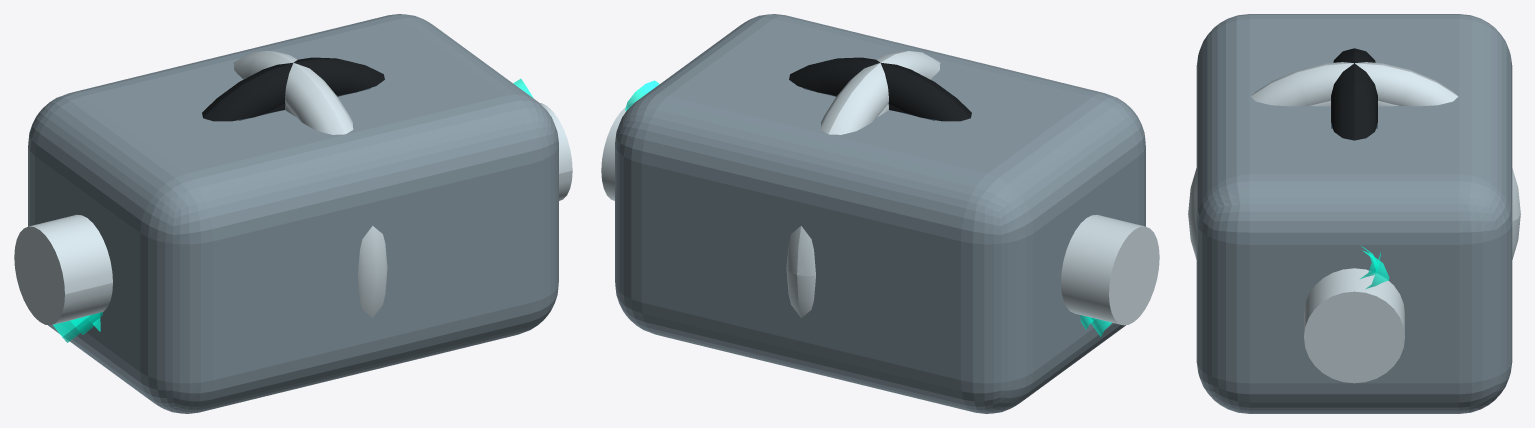
File: g4ed_lubrication.glb
3 views of the same model, side by side, from view 1: azimuth 30°, elevation 25°; view 2: azimuth 150°, elevation 25°; view 3: azimuth 270°, elevation 25° (orthographic).
Visible parts, largest first — view 1: asset_mesh__g4ed_132__reference_body, asset_mesh__g4ed_139__reference_axis, asset_mesh__g4ed_130__reference_rim, asset_mesh__g4ed_137__reference_seal, asset_mesh__g4ed_151__reference_flow_path; view 2: asset_mesh__g4ed_132__reference_body, asset_mesh__g4ed_139__reference_axis, asset_mesh__g4ed_130__reference_rim, asset_mesh__g4ed_137__reference_seal, asset_mesh__g4ed_151__reference_flow_path; view 3: asset_mesh__g4ed_132__reference_body, asset_mesh__g4ed_139__reference_axis, asset_mesh__g4ed_130__reference_rim, asset_mesh__g4ed_137__reference_seal, asset_mesh__g4ed_151__reference_flow_path.
Part boxes in pixels (box(x1,y1,x2,y2)): asset_mesh__g4ed_132__reference_body: box(28, 14, 558, 413); asset_mesh__g4ed_139__reference_axis: box(14, 103, 572, 325); asset_mesh__g4ed_130__reference_rim: box(233, 51, 387, 317); asset_mesh__g4ed_137__reference_seal: box(202, 57, 384, 121); asset_mesh__g4ed_151__reference_flow_path: box(53, 78, 533, 342); asset_mesh__g4ed_132__reference_body: box(615, 14, 1145, 413); asset_mesh__g4ed_139__reference_axis: box(601, 103, 1159, 325); asset_mesh__g4ed_130__reference_rim: box(786, 51, 940, 317); asset_mesh__g4ed_137__reference_seal: box(789, 57, 971, 121); asset_mesh__g4ed_151__reference_flow_path: box(625, 80, 1111, 336); asset_mesh__g4ed_132__reference_body: box(1196, 14, 1512, 413); asset_mesh__g4ed_139__reference_axis: box(1304, 268, 1404, 383); asset_mesh__g4ed_130__reference_rim: box(1188, 62, 1520, 259); asset_mesh__g4ed_137__reference_seal: box(1331, 48, 1377, 140); asset_mesh__g4ed_151__reference_flow_path: box(1362, 250, 1389, 289).
Bounding box in the file's own units: 1.98 × 1.13 × 1.13.
